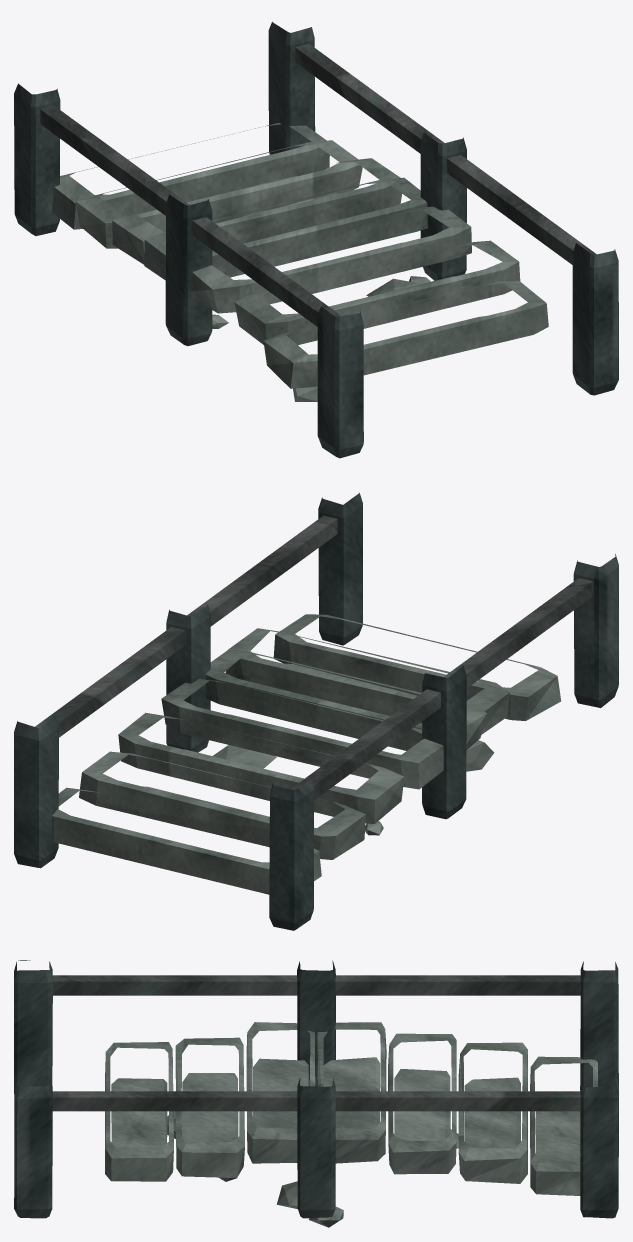
The model's file is 0388_ruined_bridge_13.glb.
The picture shows the model from 3 angles, top to bottom: view 1: azimuth 30°, elevation 25°; view 2: azimuth 150°, elevation 25°; view 3: azimuth 270°, elevation 25°; orthographic projection. The views are drawn at different scales.
Parts seen in each view (by area): view 1: stone, stone_dark, iron; view 2: stone, stone_dark, iron; view 3: stone, stone_dark, iron.
Part boxes in pixels (left/top/right/bottom): stone: left=52, top=123, right=548, bottom=401; stone_dark: left=14, top=21, right=618, bottom=458; iron: left=40, top=44, right=596, bottom=326; stone: left=52, top=614, right=560, bottom=894; stone_dark: left=14, top=492, right=618, bottom=930; iron: left=35, top=515, right=593, bottom=799; stone: left=105, top=1022, right=597, bottom=1227; stone_dark: left=14, top=960, right=618, bottom=1218; iron: left=52, top=975, right=580, bottom=1111.
Size of the model in its own units: 2 by 1.09 by 3.97.
Materials: 3 (3 with a texture image).
